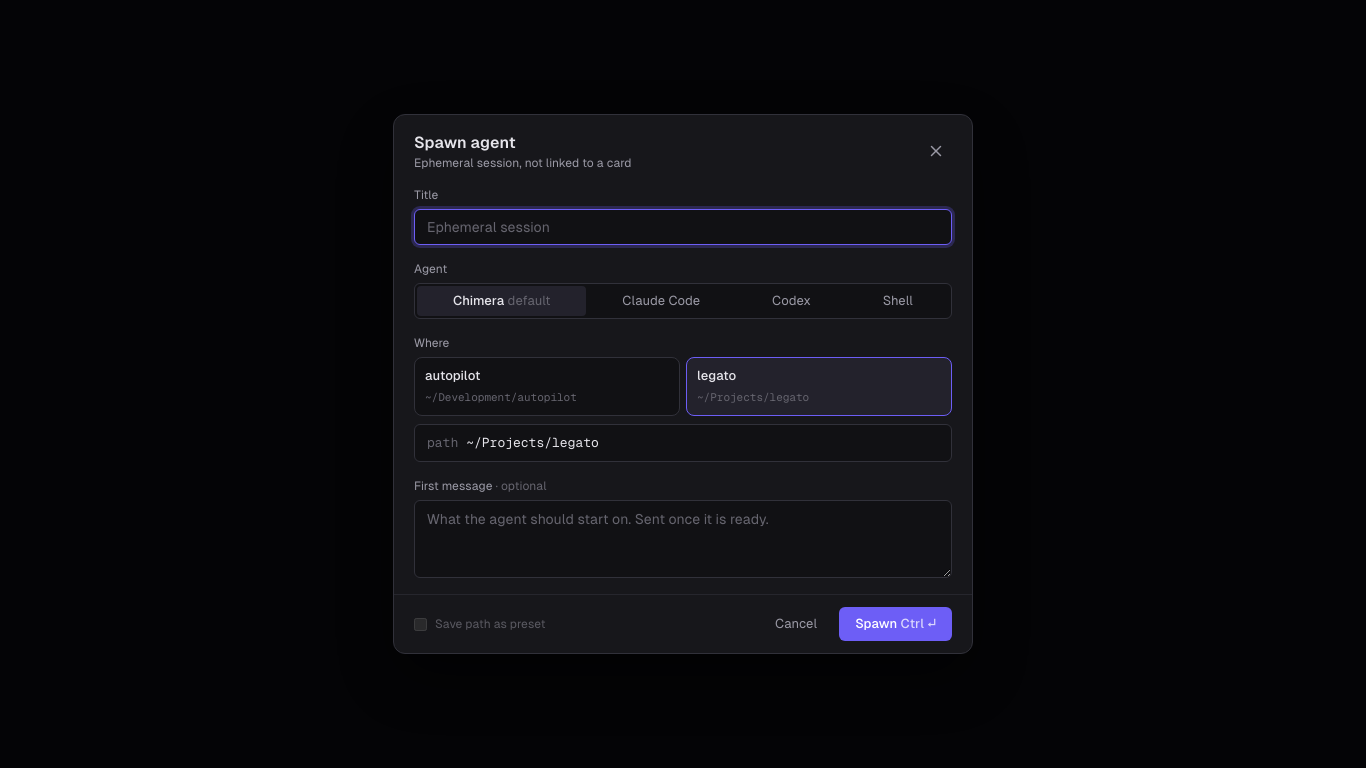
SpawnEphemeralModal › says why an agent was not spawned and stays open
Expected: the button "autopilot ~/Development/autopilot" is shown, [414,357,680,416]
Step 1. Click the button with aria-label "Spawn in legato" → click(896, 624), box [839,607,952,641]
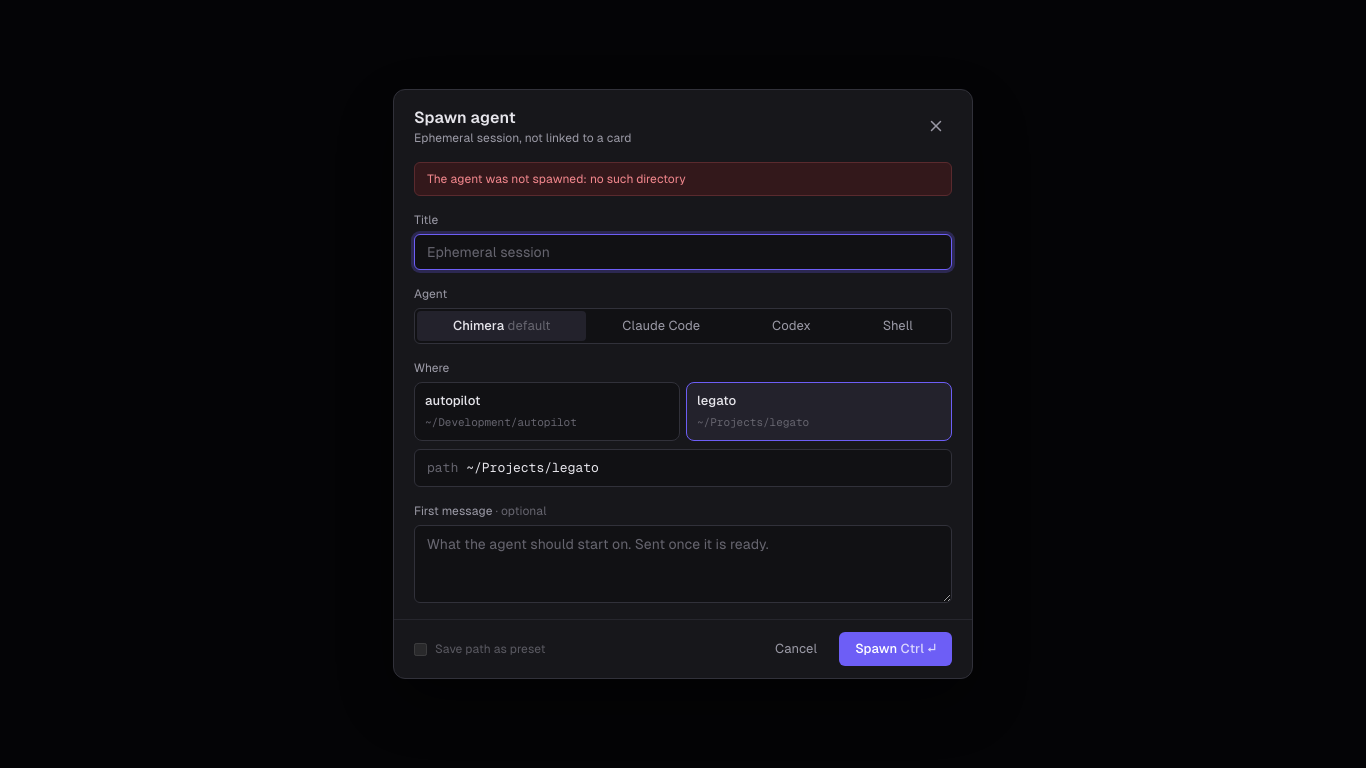
Result: the message shows "no such directory" at [427,172,686,186]
